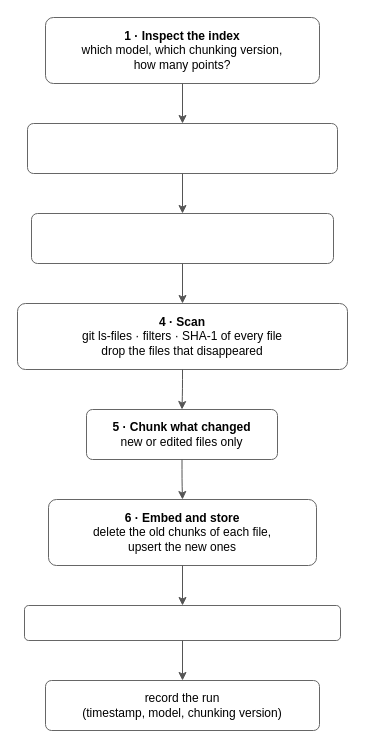
Image size: 365x748. Some labels were removed from this diagram. Each missing label, with the centre of its shape:
"2 · Prepare the collections create, or recreate if the config changed" goes at [182,148].
"3 · Clone the workspace k-clone $KLI_ORGANIZATION $KLI_WORKSPACE" goes at [182,238].
"7 · Record the files with nothing to index" goes at [182,622].
